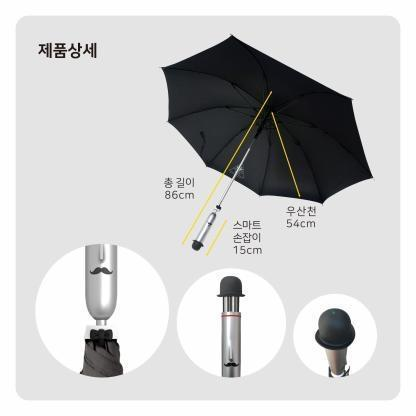Umbrella: (134, 25, 386, 220)
